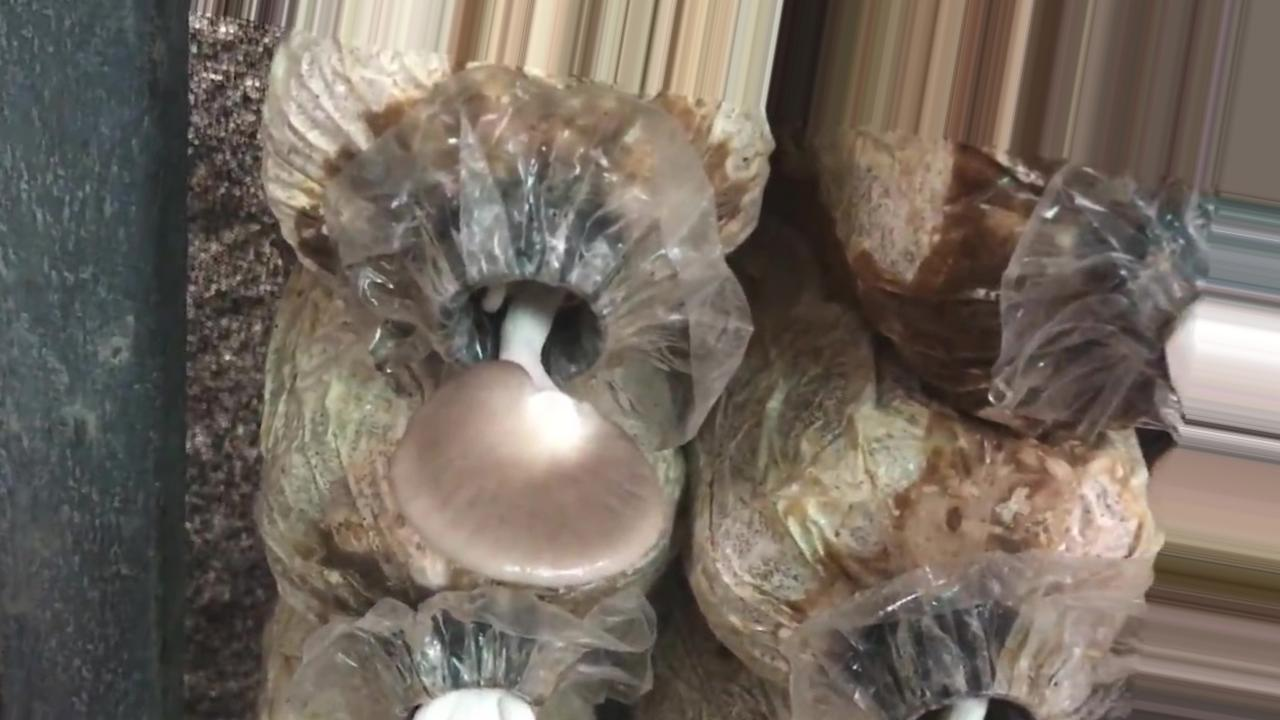nam: (389, 230, 663, 593)
